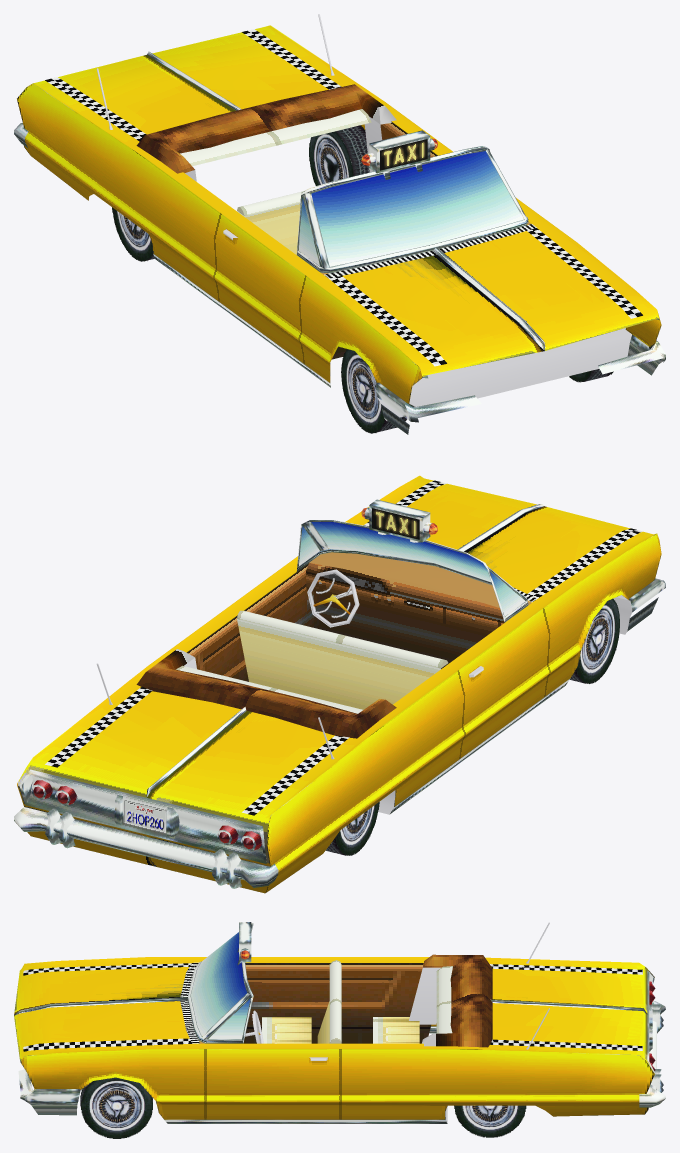
Rendered from cab-bdjoe.glb.
3 views of the same model, one above another, from view 1: azimuth 30°, elevation 25°; view 2: azimuth 150°, elevation 25°; view 3: azimuth 270°, elevation 25° (orthographic). The views are drawn at different scales.
Parts seen in each view (by area): view 1: body, wheel rear left, wheel front right, wheel rear right, roof sign; view 2: body, wheel front right, interior, wheel rear right, roof sign; view 3: body, wheel front left, wheel rear left.
Boxes of the visible parts, x1,y1,x2,y2 form: body: (14, 14, 665, 434); wheel rear left: (309, 125, 369, 185); wheel front right: (341, 349, 406, 433); wheel rear right: (112, 207, 154, 261); roof sign: (380, 139, 427, 170); body: (14, 475, 665, 893); wheel front right: (570, 599, 619, 683); interior: (31, 780, 261, 851); wheel rear right: (326, 802, 379, 855); roof sign: (372, 508, 419, 539); body: (14, 922, 665, 1123); wheel front left: (80, 1077, 152, 1138); wheel rear left: (454, 1105, 526, 1137).
Size of the model in its own units: 19.18 by 14.62 by 53.28.
Materials: 31 (30 with a texture image).
